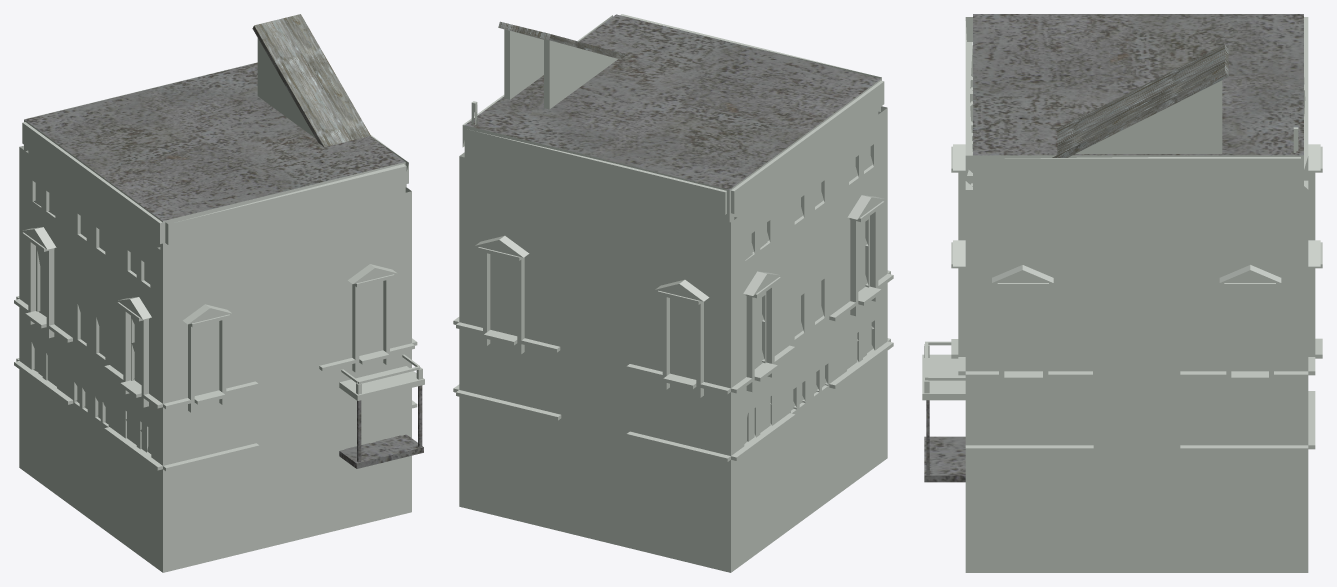
File: BagBuilding1_100.fbx
The picture shows the model from 3 angles, left to right: view 1: azimuth 30°, elevation 25°; view 2: azimuth 150°, elevation 25°; view 3: azimuth 270°, elevation 25°; orthographic projection. The views are drawn at different scales.
Visible parts, largest first — view 1: mainA100, roof100, Box100, shedroof100, porch100, shedsides100; view 2: mainA100, roof100, Box100, shedsides100, shedroof100; view 3: mainA100, roof100, Box100, shedroof100, shedsides100, porch100.
Part boxes in pixels (x1,y1,x2,y2): mainA100: (14,62,424,572); roof100: (24,62,404,220); Box100: (24,119,405,460); shedroof100: (252,14,371,146); porch100: (339,385,423,468); shedsides100: (257,38,315,138); mainA100: (453,14,893,572); roof100: (465,14,880,189); Box100: (464,79,880,450); shedsides100: (471,29,617,124); shedroof100: (498,21,627,59); mainA100: (922,17,1322,572); roof100: (973,14,1303,155); Box100: (973,155,1303,447); shedroof100: (1052,44,1228,157); shedsides100: (1075,80,1298,153); porch100: (924,400,965,482).
Bounding box in the file's own units: 15.92 × 23.64 × 17.16.
